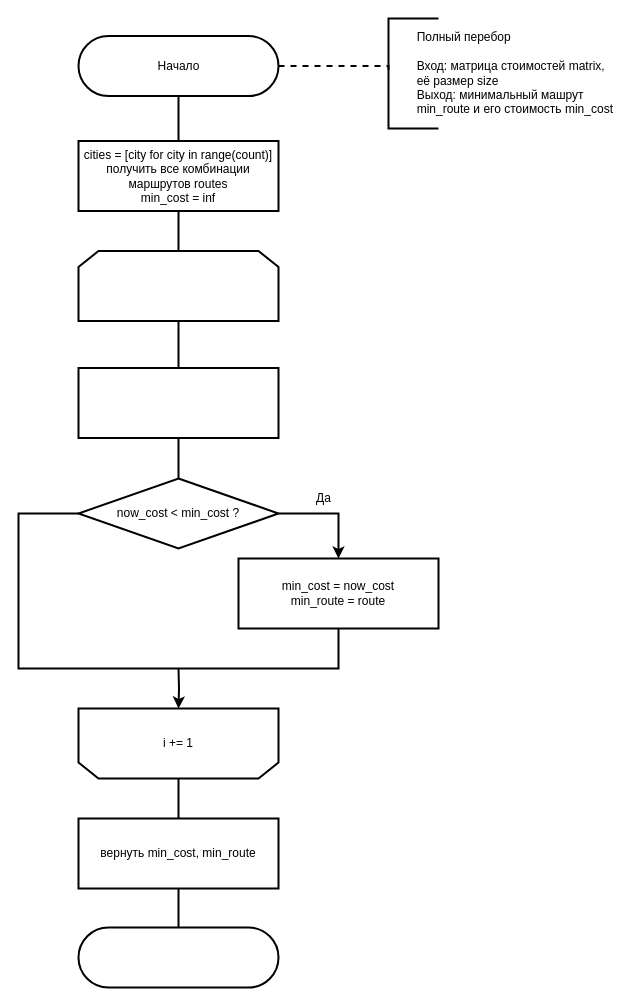
Image size: 630x1005. Some labels were removed from this diagram. Each missing label, with the box of its shape:
for route in routes: (77, 250, 279, 322)
Конец: (77, 926, 279, 988)
получить стоимость маршрута route now_cost: (77, 366, 279, 438)
